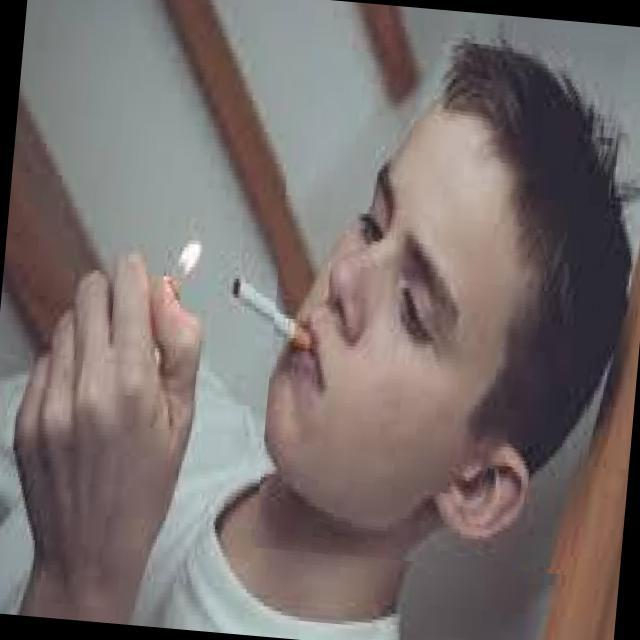cigarette: (212, 250, 332, 354)
